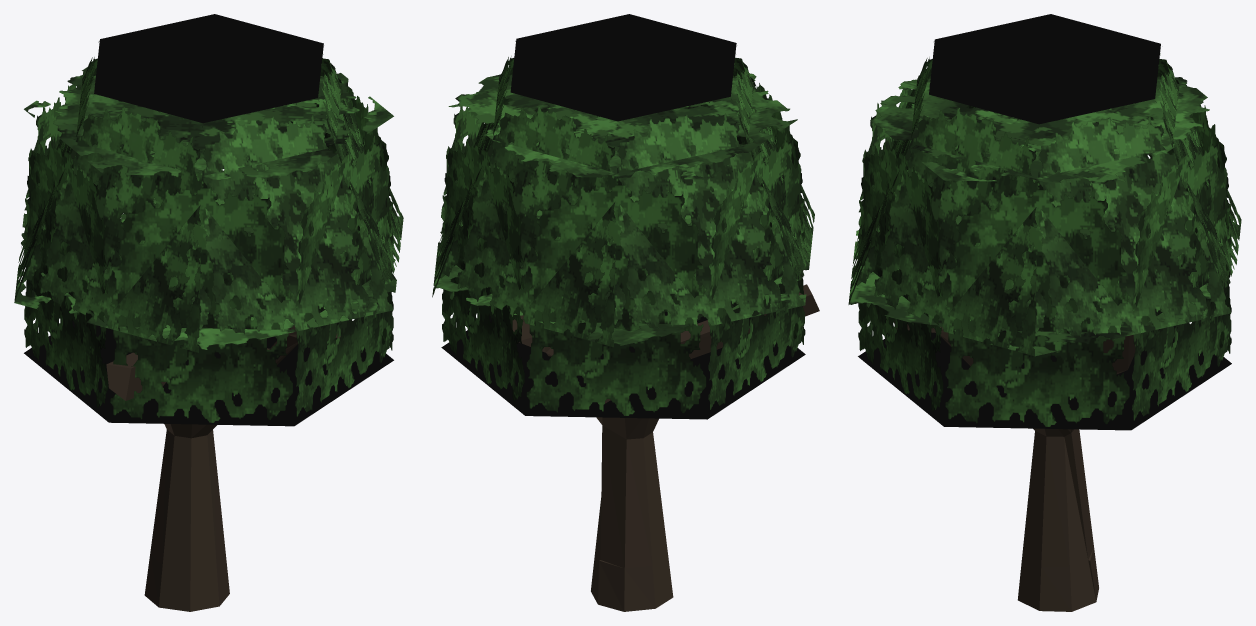
File: normal_tree1.obj
3 renders of one model, left to right at view 1: azimuth 30°, elevation 25°; view 2: azimuth 150°, elevation 25°; view 3: azimuth 270°, elevation 25°, orthographic. The views are drawn at different scales.
Parts seen in each view (by area): view 1: Object.2, Object.1, Object.4, Object.3; view 2: Object.2, Object.1, Object.4, Object.3; view 3: Object.2, Object.1, Object.4, Object.3.
Part boxes in pixels (x1,y1,x2,y2): Object.2: [14, 14, 403, 352]; Object.1: [24, 58, 393, 426]; Object.4: [106, 325, 340, 568]; Object.3: [144, 552, 229, 611]; Object.2: [432, 14, 814, 347]; Object.1: [441, 73, 805, 419]; Object.4: [480, 262, 819, 568]; Object.3: [591, 550, 673, 611]; Object.2: [848, 14, 1241, 356]; Object.1: [858, 76, 1231, 430]; Object.4: [894, 321, 1135, 567]; Object.3: [1017, 547, 1098, 611].
Size of the model in its own units: 3.01 by 4 by 2.67.
